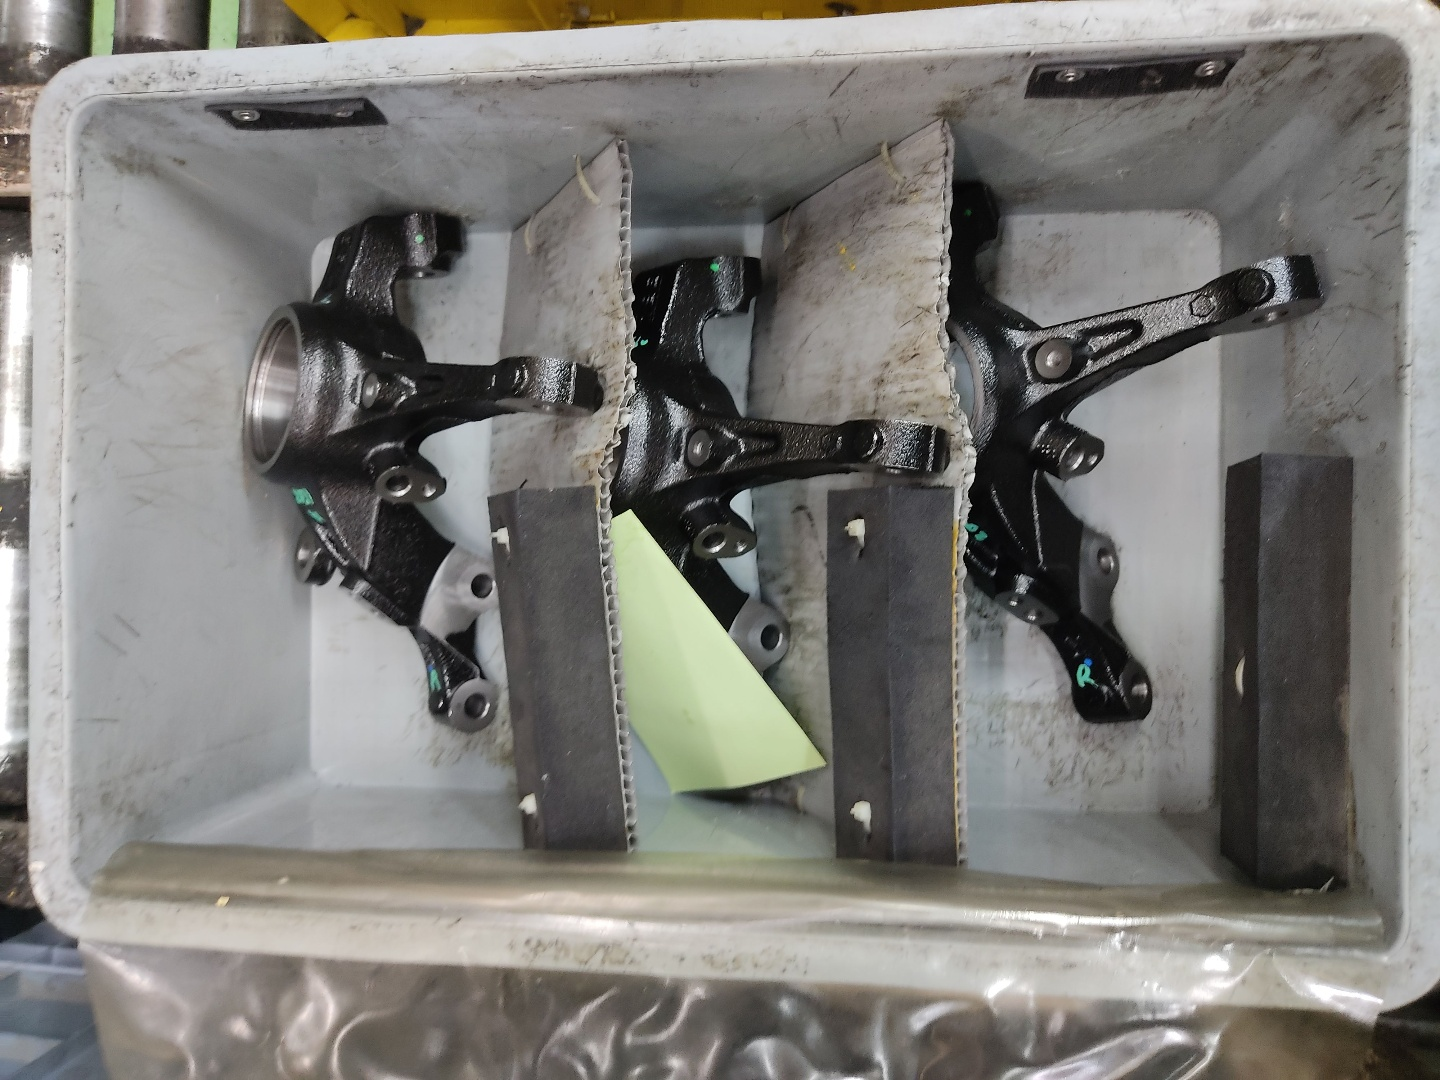abs-rh: (937, 164, 1329, 736), (232, 203, 612, 742), (610, 216, 949, 756)
